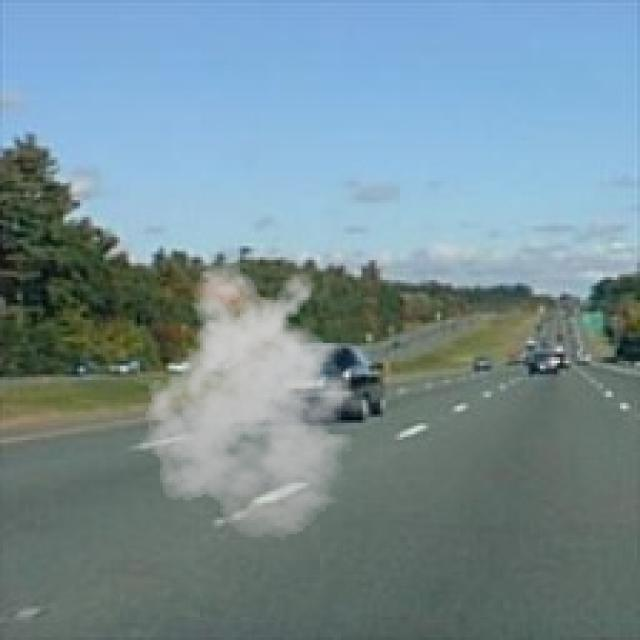smoke: (131, 260, 380, 540)
